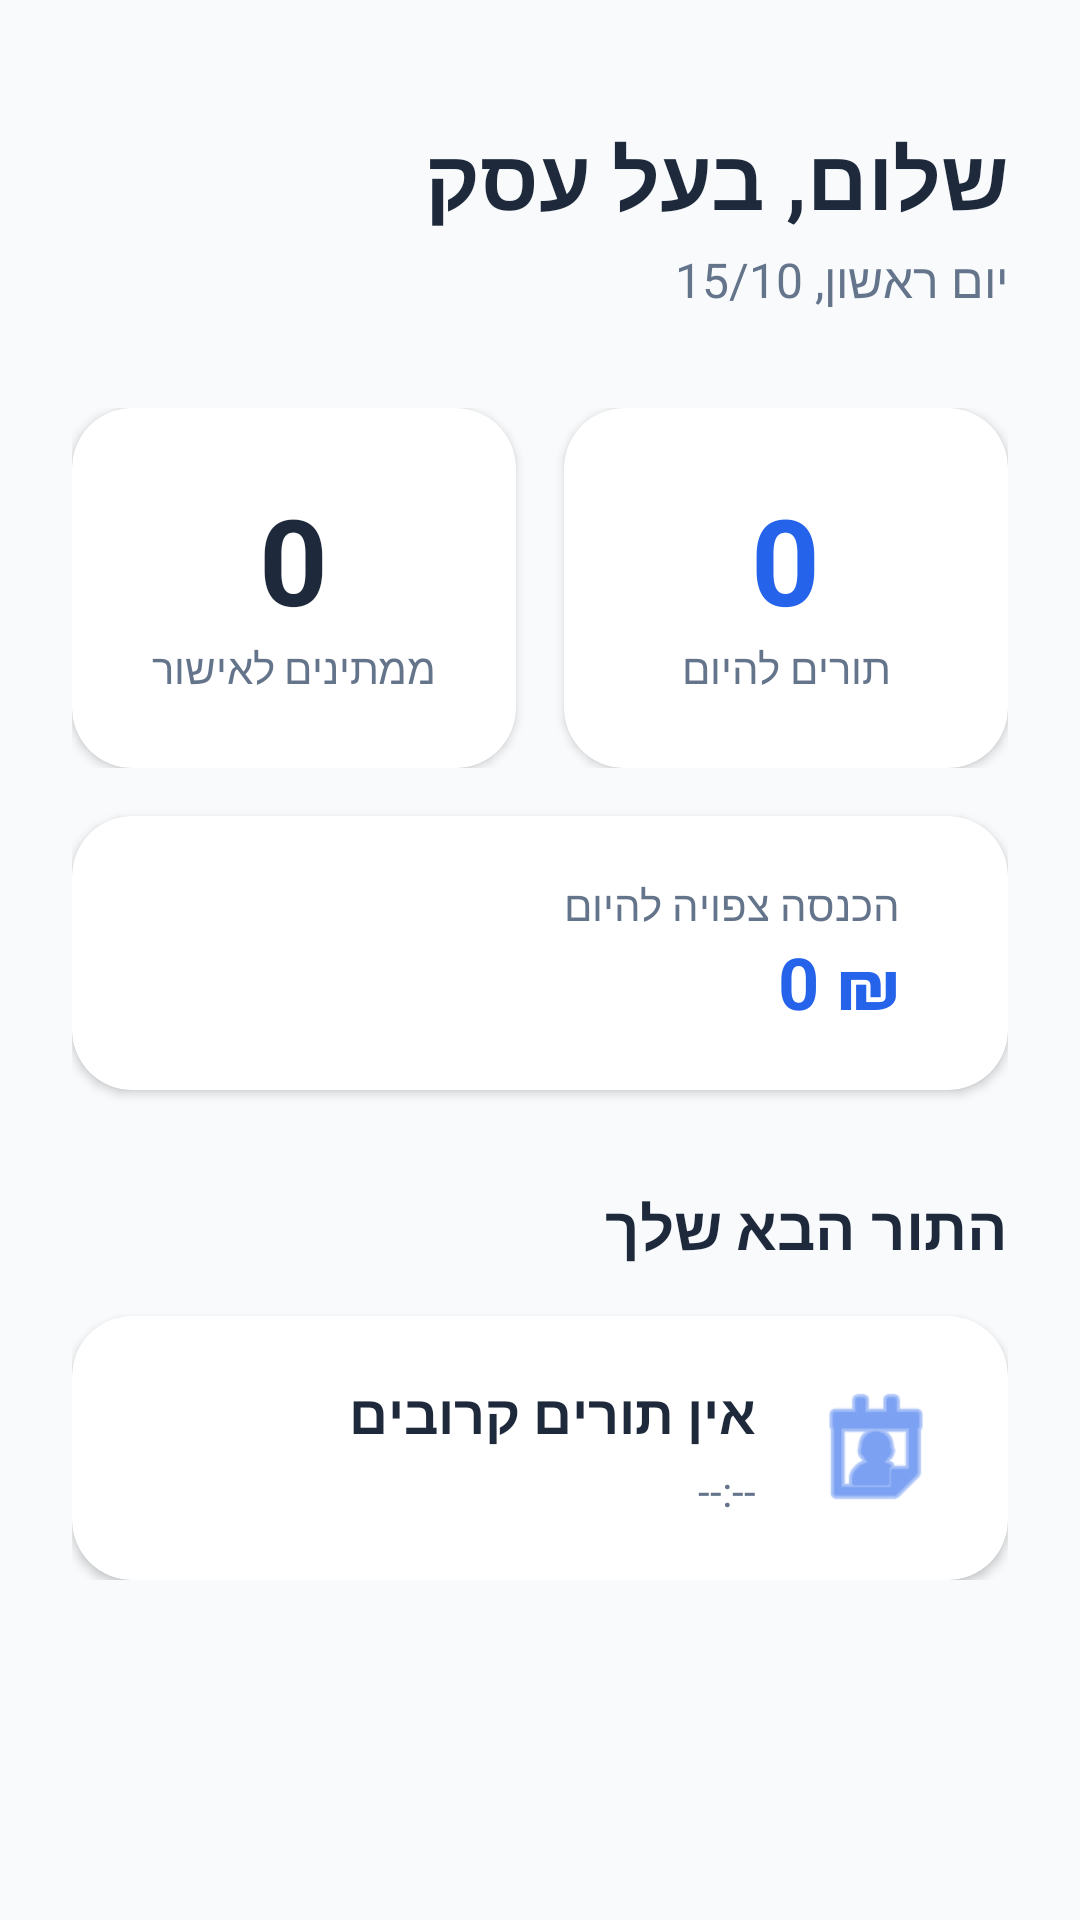

Named icons in this screenshot (1080px×1920px) and their centers, point (x, y):
calendar: point (876, 1446)
